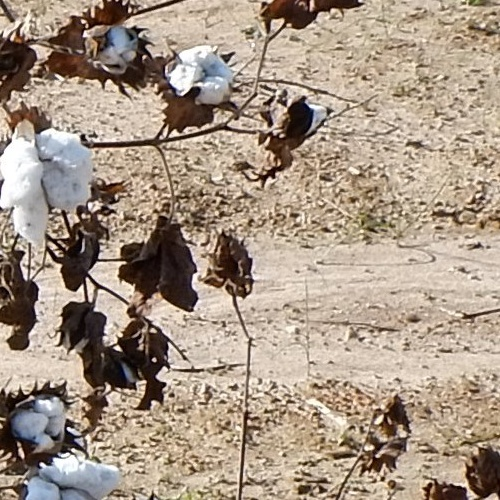immature_boll: (55, 303, 194, 402)
mature_boll: (1, 108, 107, 259), (3, 378, 120, 500), (157, 34, 245, 126), (76, 20, 147, 86)
